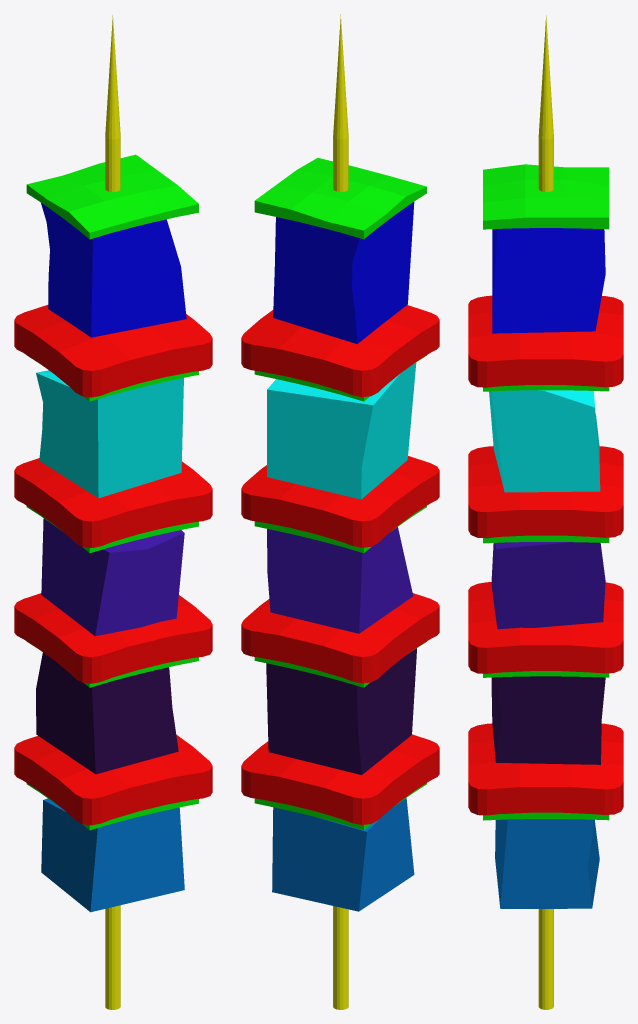
Rendered from brochette.fbx.
The picture shows the model from 3 angles, left to right: view 1: azimuth 30°, elevation 25°; view 2: azimuth 150°, elevation 25°; view 3: azimuth 270°, elevation 25°; orthographic projection.
Visible parts, largest first — view 1: viande_02, viande_01, viande_04, viande_03, viande_05, tomate_01, tomate_04, tomate_02, tomate_03, laitue_01, baton, laitue_03 (+3 smaller); view 2: viande_02, viande_01, viande_04, viande_05, viande_03, tomate_01, tomate_04, tomate_03, tomate_02, laitue_01, baton, laitue_03 (+3 smaller); view 3: viande_01, viande_02, tomate_01, tomate_04, viande_04, tomate_02, viande_03, tomate_03, viande_05, laitue_01, baton, laitue_03 (+3 smaller).
Boxes of the visible parts, x1,y1,x2,y2 form: viande_02: [36, 370, 183, 498]; viande_01: [41, 203, 186, 337]; viande_04: [36, 652, 178, 774]; viande_03: [41, 518, 184, 636]; viande_05: [41, 798, 184, 912]; tomate_01: [14, 305, 212, 397]; tomate_04: [14, 734, 212, 825]; tomate_02: [14, 458, 212, 547]; tomate_03: [14, 593, 212, 683]; laitue_01: [26, 154, 198, 239]; baton: [105, 15, 120, 1009]; laitue_03: [26, 506, 198, 553]; viande_02: [267, 362, 416, 499]; viande_01: [273, 202, 414, 344]; viande_04: [266, 648, 416, 774]; viande_05: [272, 798, 414, 911]; viande_03: [267, 527, 413, 633]; tomate_01: [241, 305, 439, 397]; tomate_04: [241, 734, 439, 824]; tomate_03: [241, 593, 439, 683]; tomate_02: [241, 456, 439, 547]; laitue_01: [254, 158, 426, 239]; baton: [333, 14, 348, 1009]; laitue_03: [254, 506, 426, 553]; viande_01: [492, 228, 605, 333]; viande_02: [489, 390, 600, 492]; tomate_01: [468, 295, 623, 387]; tomate_04: [468, 723, 623, 815]; viande_04: [491, 676, 605, 764]; tomate_02: [468, 446, 623, 538]; viande_03: [491, 542, 605, 629]; tomate_03: [468, 582, 623, 673]; viande_05: [495, 819, 599, 908]; laitue_01: [483, 164, 609, 229]; baton: [538, 15, 553, 1009]; laitue_03: [483, 535, 609, 543].
Bounding box in the file's own units: 77.1 × 544 × 77.1.
